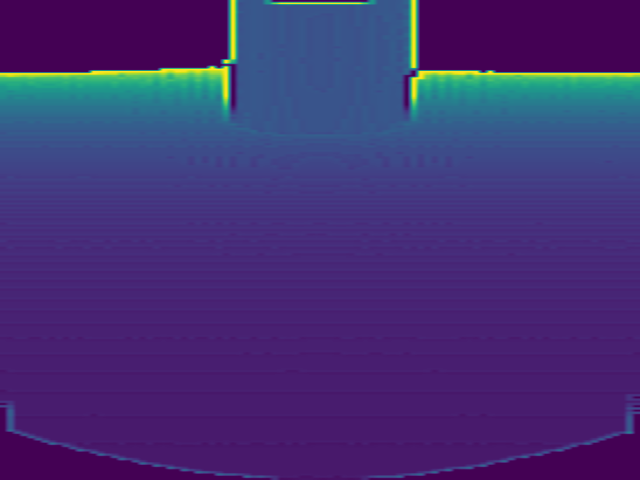cylinder: (221, 1, 420, 141)
